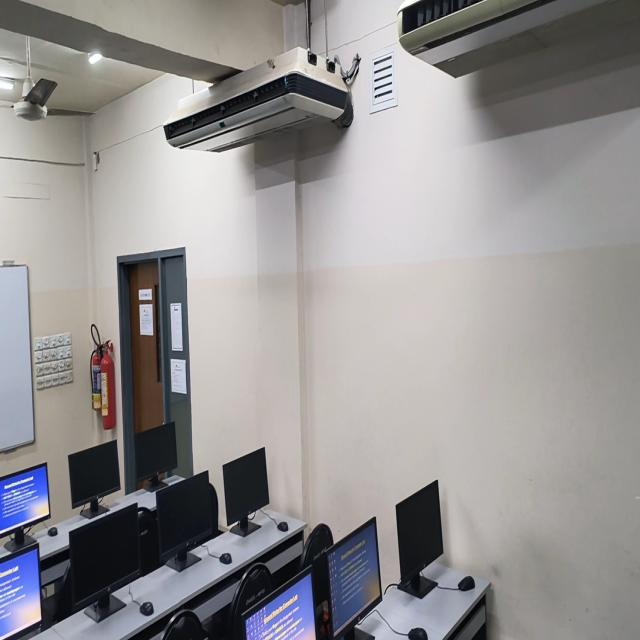Ac: (164, 47, 360, 152), (398, 0, 640, 78)
Chair: (228, 564, 273, 639), (138, 507, 160, 575), (302, 523, 334, 569), (162, 609, 209, 639), (209, 484, 218, 536)
Fire Extinguisher: (101, 341, 116, 429), (91, 343, 102, 410)
Light: (88, 53, 102, 64)
Monitor: (312, 517, 382, 639), (69, 503, 139, 612), (157, 471, 217, 571), (241, 569, 316, 639), (396, 480, 443, 584), (0, 463, 50, 552), (0, 543, 42, 639), (223, 447, 269, 525), (69, 440, 120, 508), (135, 422, 177, 481)
Mouse: (458, 575, 475, 591), (408, 628, 428, 639), (140, 601, 154, 616), (219, 552, 232, 564), (277, 521, 288, 532), (47, 526, 58, 536)
